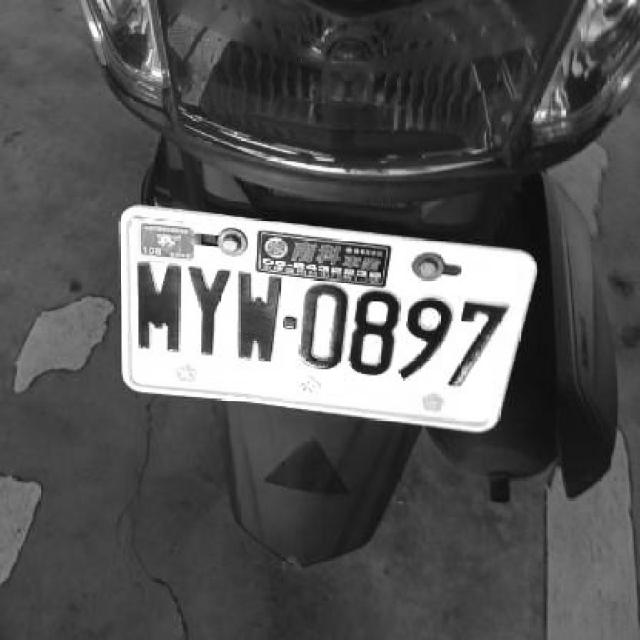-: (281, 316, 297, 332)
0: (298, 278, 351, 372)
7: (451, 297, 511, 386)
8: (349, 285, 398, 377)
9: (398, 294, 452, 381)
M: (134, 258, 180, 351)
W: (234, 266, 280, 360)
Y: (187, 263, 236, 357)
